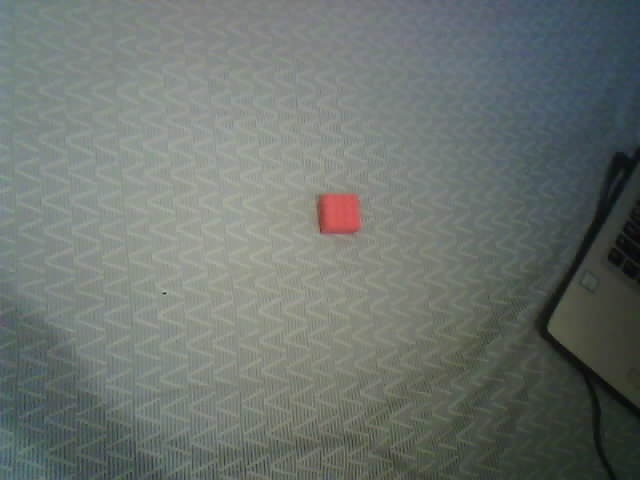lego: (316, 193, 361, 235)
